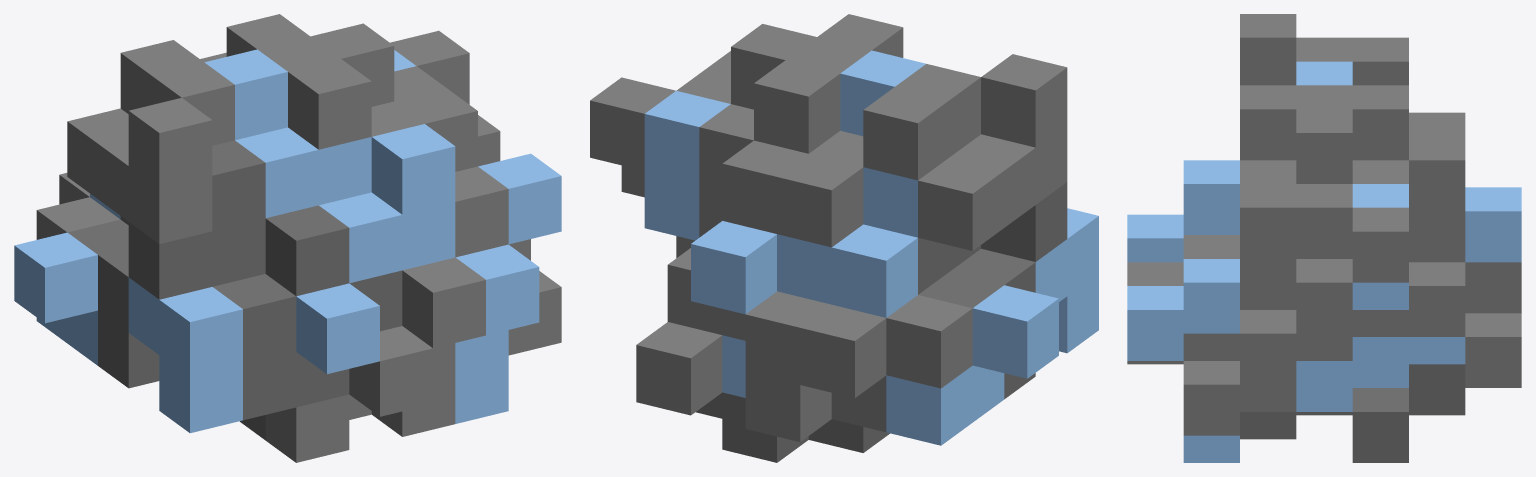
The model's file is Ore.fbx.
The picture shows the model from 3 angles, left to right: view 1: azimuth 30°, elevation 25°; view 2: azimuth 150°, elevation 25°; view 3: azimuth 270°, elevation 25°; orthographic projection. The views are drawn at different scales.
Parts seen in each view (by area): view 1: root; view 2: root; view 3: root.
Part boxes in pixels (bbox=[...]): root: bbox=[14, 14, 561, 462]; root: bbox=[590, 14, 1098, 462]; root: bbox=[1127, 14, 1521, 462].
Size of the model in its own units: 0.512 by 0.384 by 0.448.
1 material, 1 textured.
